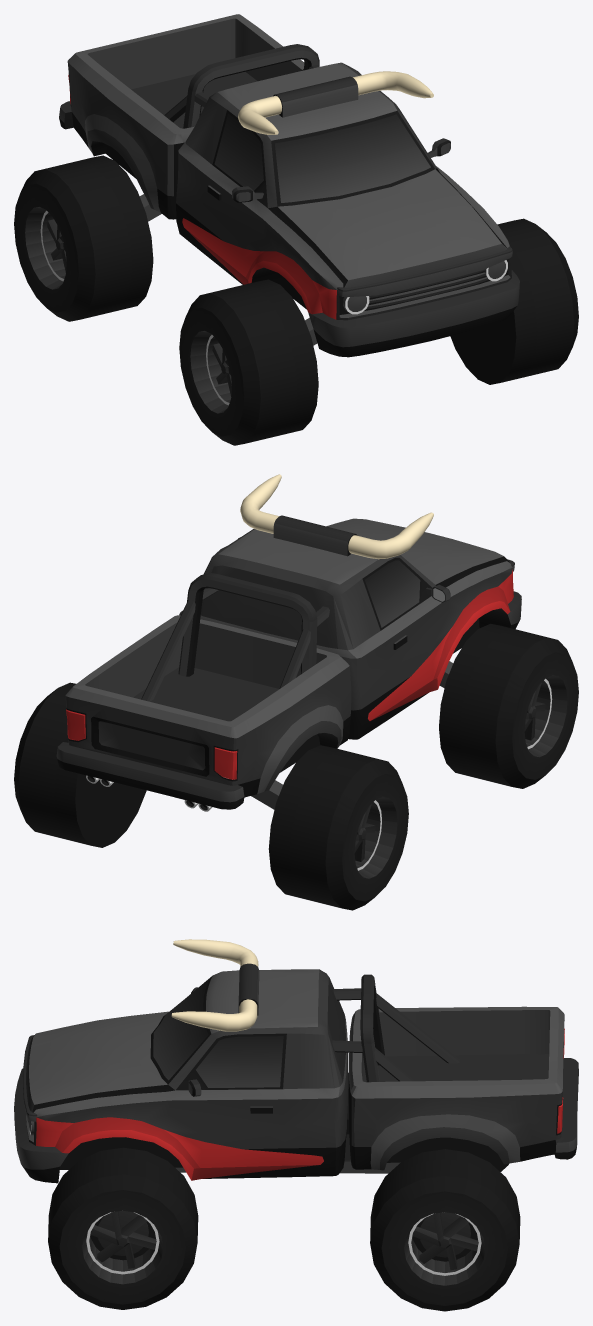
Rendered from Car_41.fbx.
3 views of the same model, one above another, from view 1: azimuth 30°, elevation 25°; view 2: azimuth 150°, elevation 25°; view 3: azimuth 270°, elevation 25° (orthographic). The views are drawn at different scales.
Visible parts, largest first — view 1: Car_41, Car_41_Tire, Car_41_Tire.003, Car_41_Tire.001; view 2: Car_41, Car_41_Tire, Car_41_Tire.003, Car_41_Tire.002; view 3: Car_41, Car_41_Tire.002, Car_41_Tire.001.
Boxes of the visible parts, box(x1,y1,x2,y2) form: Car_41: box(59, 14, 519, 357); Car_41_Tire: box(179, 279, 318, 445); Car_41_Tire.003: box(14, 155, 153, 321); Car_41_Tire.001: box(450, 218, 578, 384); Car_41: box(56, 474, 521, 811); Car_41_Tire: box(439, 623, 578, 788); Car_41_Tire.003: box(268, 745, 408, 910); Car_41_Tire.002: box(14, 682, 146, 847); Car_41: box(14, 939, 578, 1183); Car_41_Tire.002: box(370, 1149, 520, 1311); Car_41_Tire.001: box(48, 1147, 198, 1309).
Size of the model in its own units: 3.31 by 2.57 by 5.02.
